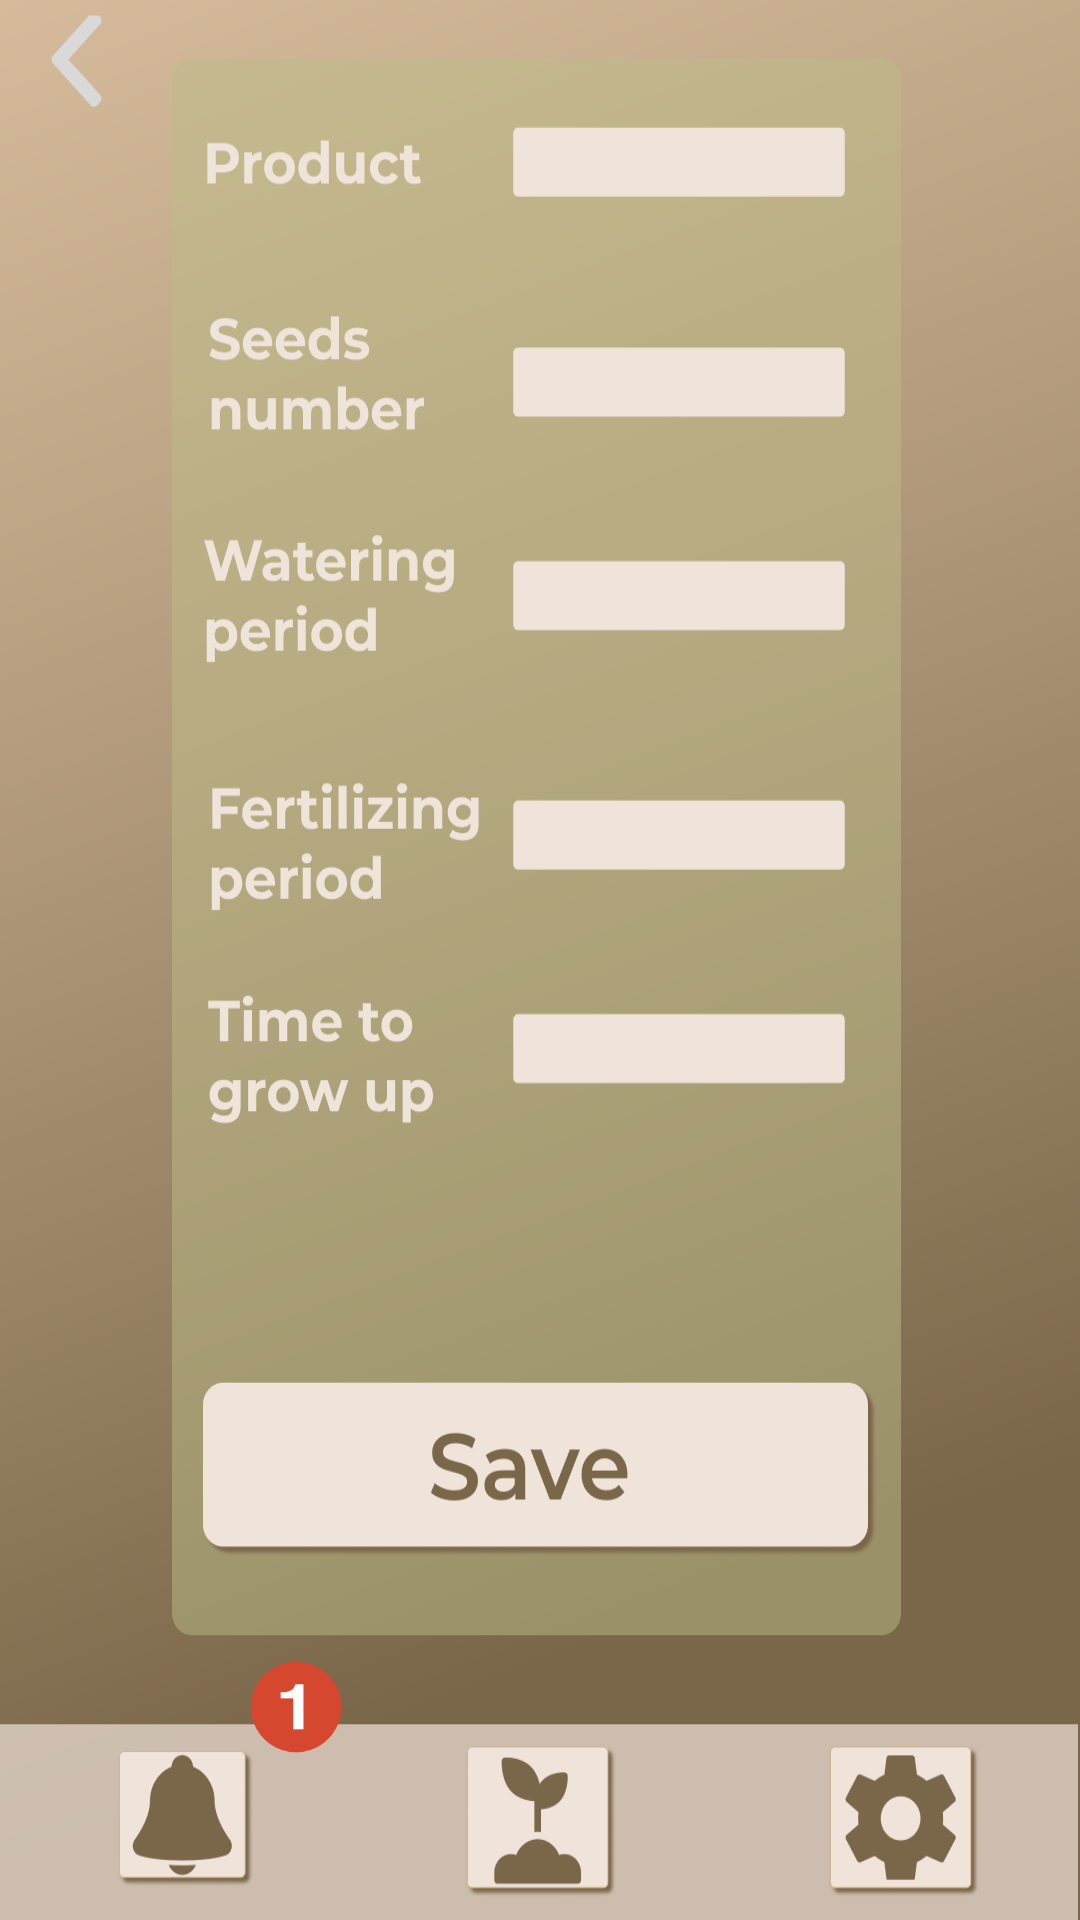

Icons on this 1080x1920 Android screen, each with the point to tap as point (x, y):
number: point (297, 1707)
